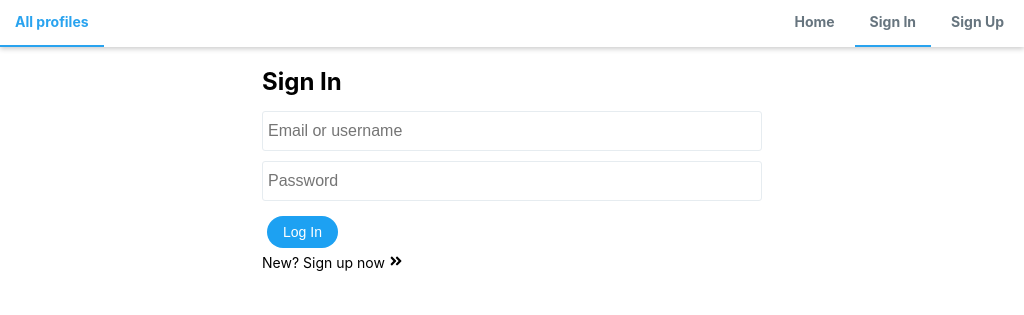
Test case: /Signin › Form submission › requires valid username and password
Step 1. Type "fake@email.com" into the field with test id "signin-username-input" → (512, 131), box [262,111,762,151]
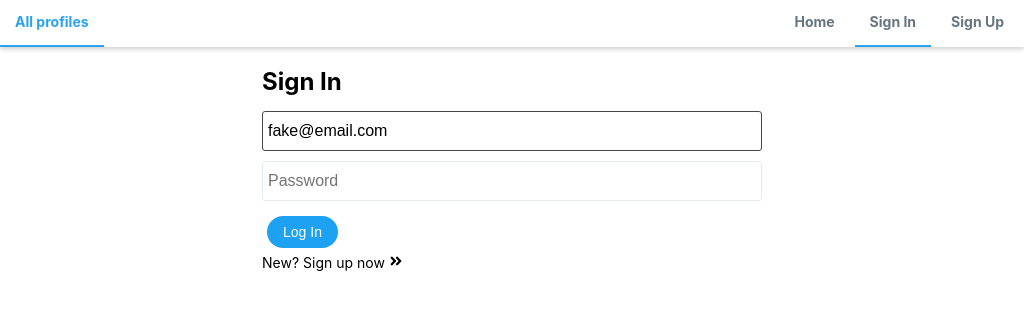
Step 2. Type "password" into the password field with test id "signin-password-input" → (512, 181), box [262,161,762,201]
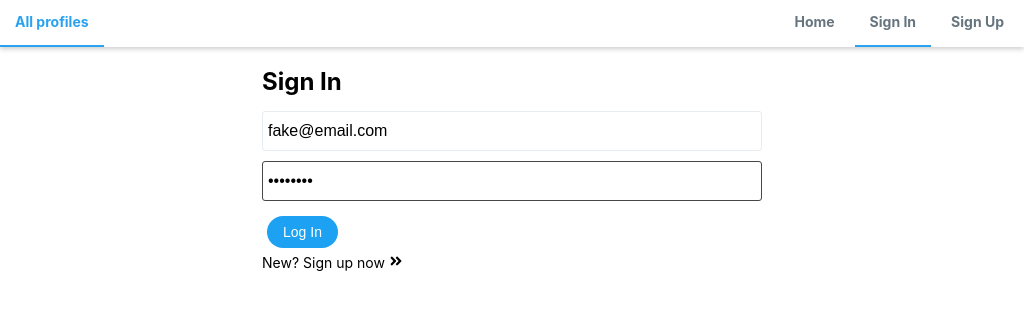
Step 3. Submit the form with test id "signin-form", box [262,111,762,253]
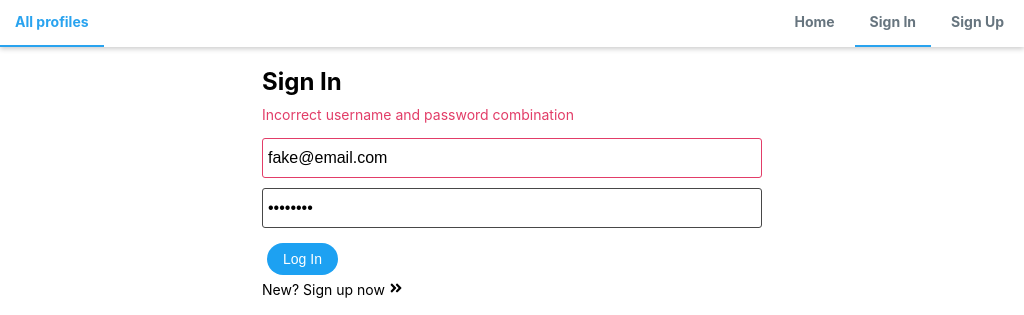
expect the text "Incorrect username and password combination" is shown: met, box [262,106,574,123]
